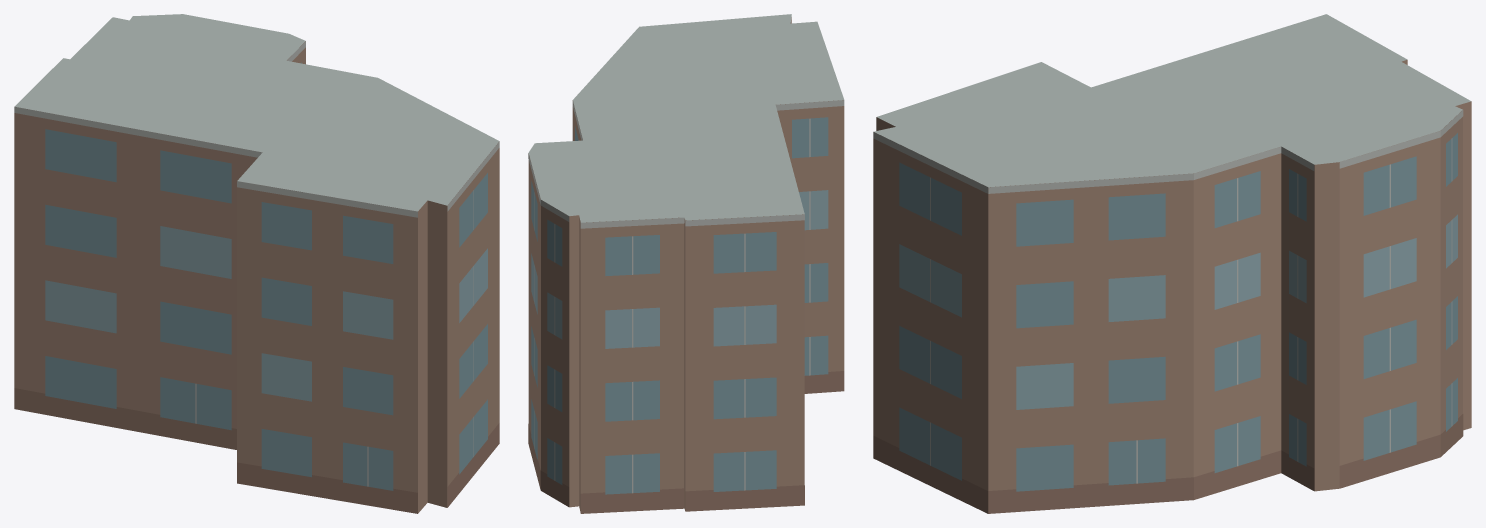
File: survey-upis-32712680.glb
3 renders of one model, left to right at view 1: azimuth 30°, elevation 25°; view 2: azimuth 150°, elevation 25°; view 3: azimuth 270°, elevation 25°, orthographic. The views are drawn at different scales.
Visible parts, largest first — view 1: survey-upis-32712680.tmp; view 2: survey-upis-32712680.tmp; view 3: survey-upis-32712680.tmp.
Part boxes in pixels (x1,y1,x2,y2): survey-upis-32712680.tmp: (14, 14, 499, 513); survey-upis-32712680.tmp: (528, 14, 844, 513); survey-upis-32712680.tmp: (873, 14, 1471, 513).
Size of the model in its own units: 13.49 by 11.85 by 19.68.
